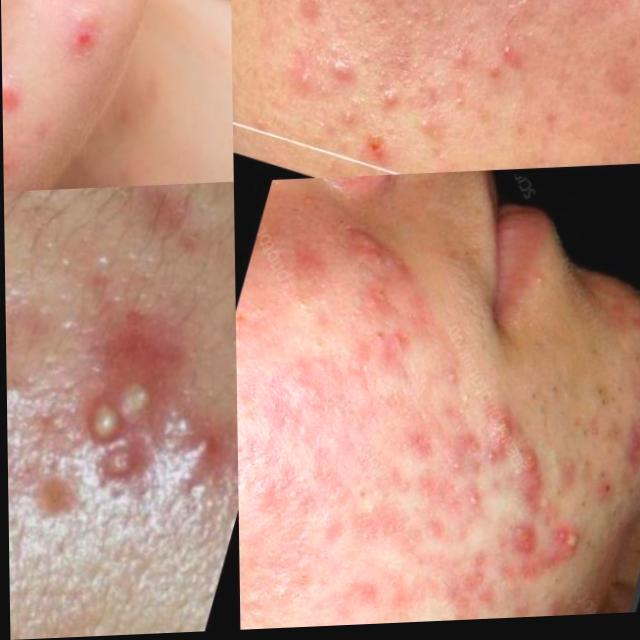6: (528, 582, 570, 621)
8: (159, 411, 236, 538), (1, 54, 41, 121), (382, 319, 422, 369)
9: (102, 432, 151, 504), (546, 519, 588, 571), (77, 395, 121, 443), (115, 380, 158, 420), (438, 452, 466, 489), (459, 488, 486, 517)
blackheads: (334, 209, 435, 301), (471, 408, 516, 482), (503, 447, 554, 509), (2, 134, 33, 192), (506, 525, 541, 566)
dark spot: (583, 381, 625, 420), (564, 411, 600, 454), (516, 403, 551, 447), (456, 387, 489, 424), (540, 379, 572, 413), (576, 454, 600, 484), (518, 386, 541, 413), (617, 486, 640, 509), (545, 483, 565, 508), (549, 406, 569, 429), (570, 498, 590, 520), (591, 472, 609, 492), (627, 418, 640, 443), (637, 457, 640, 477), (638, 383, 640, 411)
